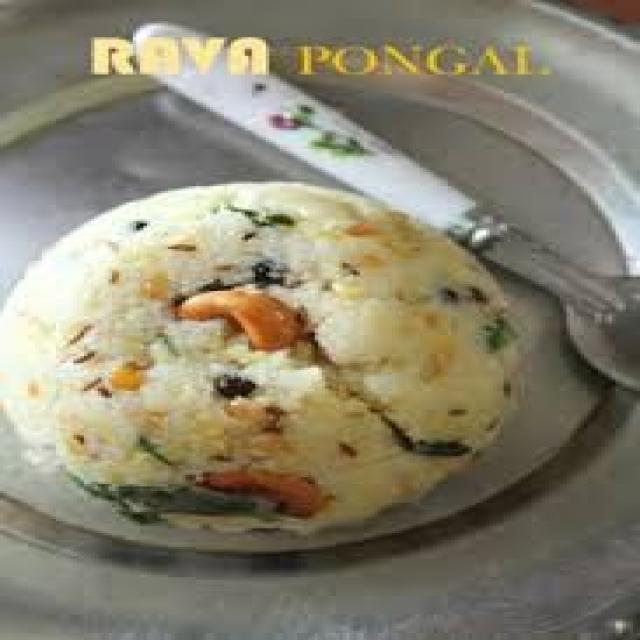UPMA: (0, 182, 521, 545)
